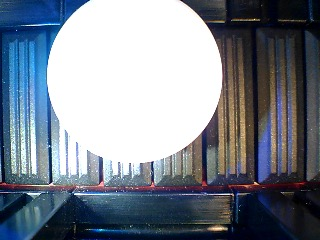BLANK: (45, 1, 223, 163)
